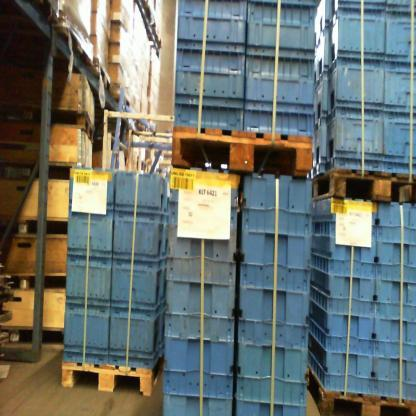pallets: (162, 126, 416, 208), (55, 349, 176, 406), (306, 366, 416, 416)
